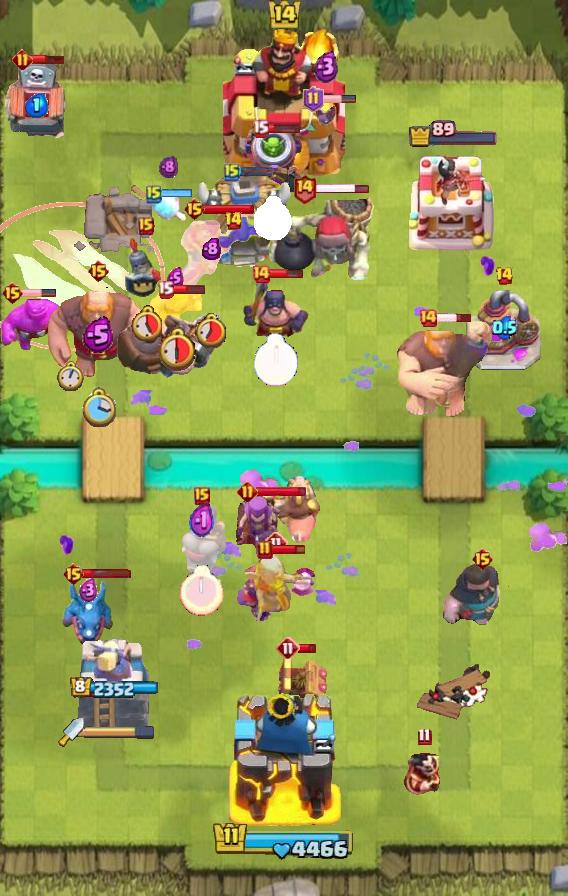archer: (148, 285, 202, 329)
balloon: (394, 318, 492, 420), (44, 287, 152, 379)
bar: (77, 637, 151, 731)
barbarian: (216, 217, 272, 251)
barbarian-barrel: (314, 98, 338, 128)
bat: (149, 191, 187, 223)
clock: (212, 820, 356, 862)
electro-giant: (265, 186, 377, 296)
electro-spirit: (82, 316, 114, 354), (189, 502, 215, 541), (314, 50, 339, 83), (492, 315, 517, 340), (25, 94, 49, 119), (79, 577, 98, 602), (159, 155, 178, 179), (202, 237, 221, 260), (167, 267, 185, 289)
elite-barbarian: (176, 501, 228, 575)
elixir: (253, 333, 299, 387), (180, 564, 224, 616), (154, 325, 196, 371), (254, 196, 292, 240), (80, 387, 115, 429), (194, 312, 229, 348), (130, 305, 161, 341), (56, 361, 83, 392)
elixir-golem-mid: (2, 61, 72, 147)
emote: (315, 181, 370, 194), (256, 485, 308, 498), (203, 203, 255, 215), (82, 568, 132, 580), (270, 543, 305, 556), (436, 312, 473, 324), (266, 122, 302, 134), (268, 268, 304, 280), (170, 283, 206, 295), (30, 54, 66, 65), (238, 166, 274, 177), (160, 189, 194, 200), (321, 94, 357, 104), (21, 288, 57, 298), (298, 642, 317, 653)
freeze: (171, 205, 251, 299), (256, 474, 320, 548)
goblin-brawler: (275, 653, 329, 703)
goblin-cage: (241, 125, 305, 195)
graveyard: (61, 575, 115, 647)
ice-wizard: (0, 202, 164, 351)
king-tower: (223, 27, 345, 181), (226, 688, 342, 826)
king-tower-bar: (84, 725, 156, 739)
lumberjack: (403, 751, 445, 799)
monk: (242, 271, 310, 349)
pekka: (465, 290, 543, 372)
poison: (229, 549, 317, 633)
prince: (194, 176, 296, 272)
princess: (124, 235, 168, 299)
queen-tower: (407, 150, 499, 256)
rascal-girl: (234, 492, 284, 554)
royal-hog: (441, 562, 523, 628)
selected: (409, 120, 500, 148), (69, 676, 158, 700)
tesla-evolution: (234, 559, 317, 623)
text: (291, 172, 316, 203), (264, 531, 288, 555), (276, 636, 300, 660), (182, 197, 205, 221), (86, 259, 109, 283), (1, 281, 24, 305), (471, 547, 494, 571), (63, 562, 86, 586), (304, 86, 325, 112), (238, 481, 259, 503), (11, 49, 32, 70), (251, 264, 271, 284), (494, 266, 514, 286), (418, 308, 438, 328), (225, 211, 244, 231), (158, 281, 175, 300), (224, 162, 240, 182), (146, 184, 162, 204), (257, 540, 273, 560), (251, 119, 268, 137), (138, 217, 154, 235), (194, 487, 210, 505), (417, 727, 431, 746)
tornado: (0, 296, 68, 352)
wizard: (113, 310, 225, 380)
